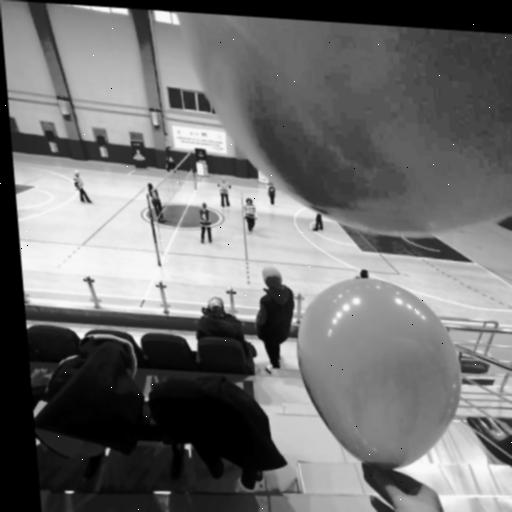balloon: (173, 12, 512, 242), (290, 274, 471, 473)
